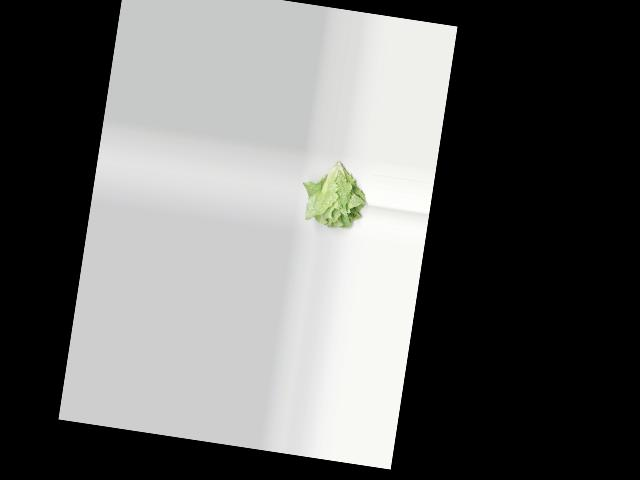lettuce: (298, 151, 375, 236)
